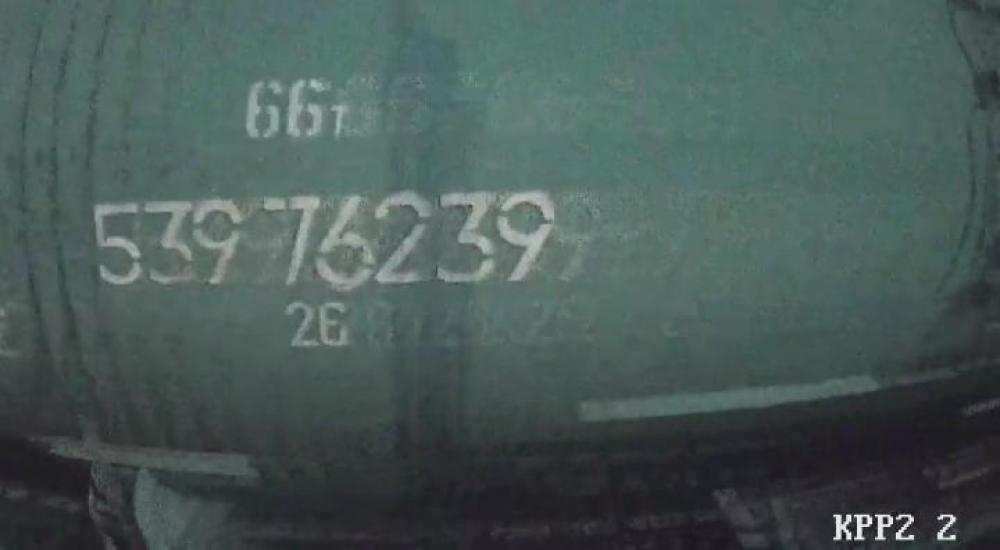Wagon-number: (85, 183, 562, 291)
